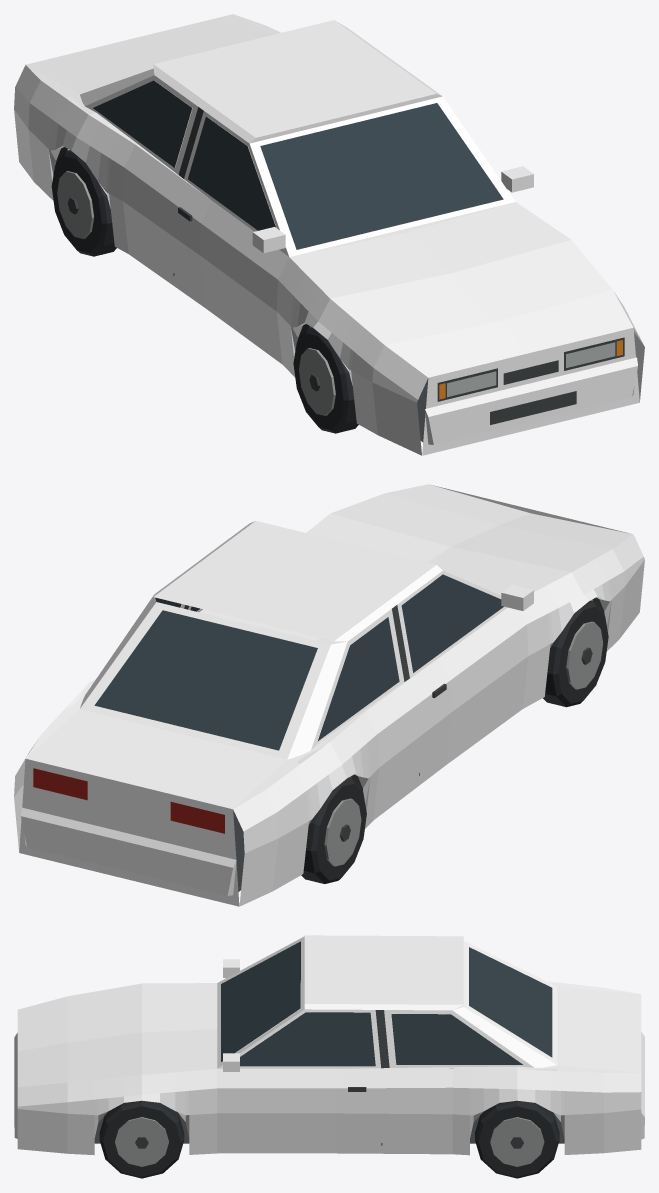
Rendered from kanaya_shinonome_gt_97.glb.
3 views of the same model, one above another, from view 1: azimuth 30°, elevation 25°; view 2: azimuth 150°, elevation 25°; view 3: azimuth 270°, elevation 25° (orthographic). The views are drawn at different scales.
Visible parts, largest first — view 1: kanaya_shinonome_gt_97; view 2: kanaya_shinonome_gt_97; view 3: kanaya_shinonome_gt_97.
Part boxes in pixels (left/top/right/bottom): kanaya_shinonome_gt_97: left=14, top=14, right=644, bottom=455; kanaya_shinonome_gt_97: left=14, top=484, right=644, bottom=906; kanaya_shinonome_gt_97: left=14, top=935, right=644, bottom=1178.
Size of the model in its own units: 1.75 by 1.25 by 4.47.
Materials: 8 (1 with a texture image).
